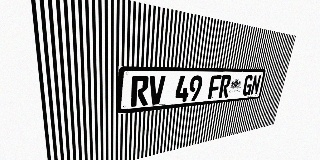4: (175, 75, 190, 103)
9: (188, 75, 203, 101)
F: (208, 75, 222, 99)
G: (242, 75, 254, 96)
N: (250, 75, 261, 95)
R: (131, 76, 149, 107), (218, 75, 232, 98)
V: (148, 76, 166, 105)
